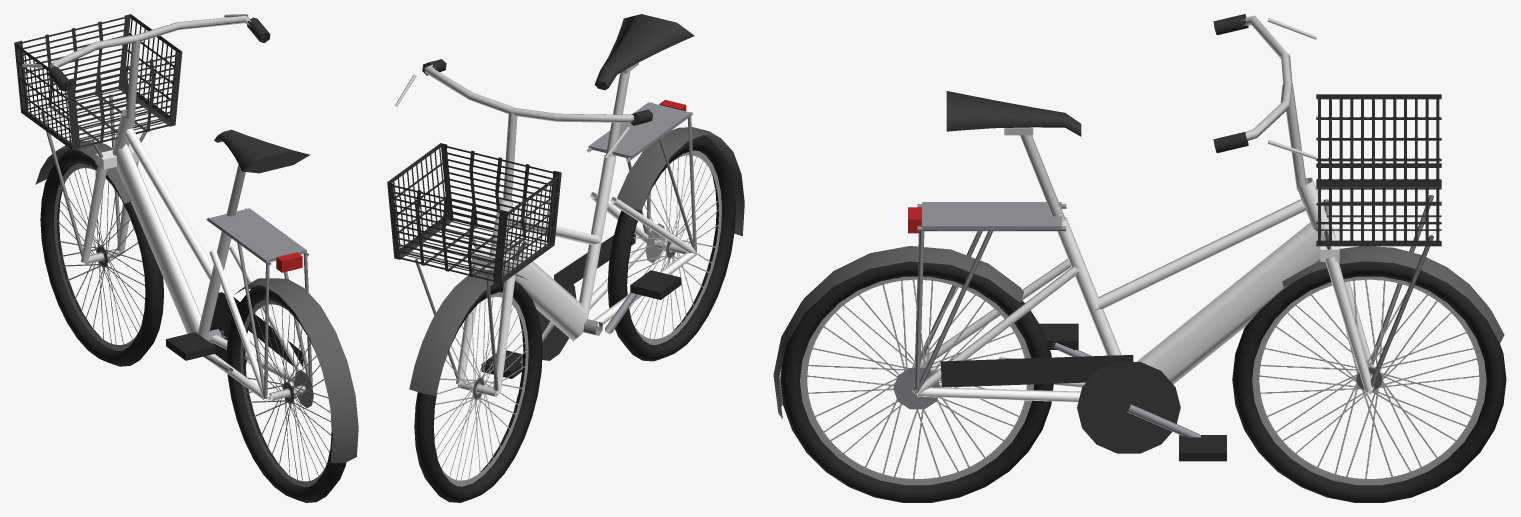
File: rental.glb
3 views of the same model, side by side, from view 1: azimuth 30°, elevation 25°; view 2: azimuth 150°, elevation 25°; view 3: azimuth 270°, elevation 25° (orthographic). The views are drawn at different scales.
Visible parts, largest first — view 1: bike; view 2: bike; view 3: bike.
Boxes of the visible parts, x1,y1,x2,y2 form: bike: [14, 14, 358, 502]; bike: [387, 14, 744, 502]; bike: [773, 14, 1506, 502].
Bounding box in the file's own units: 0.61 × 0.9865 × 1.52.
Materials: 1 (1 with a texture image).
